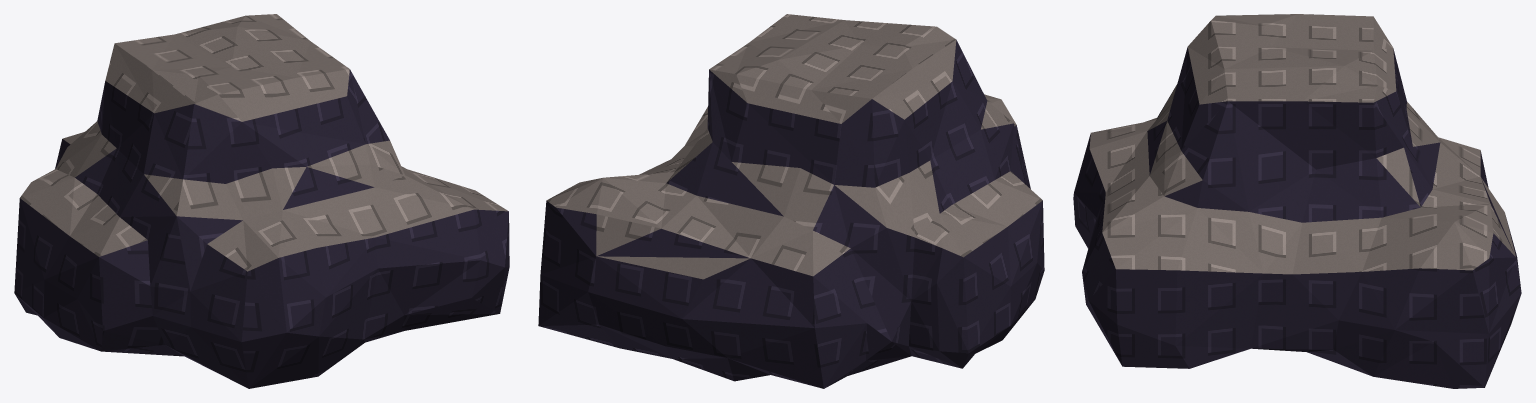
File: ObsidianStackSmall.glb
3 renders of one model, left to right at view 1: azimuth 30°, elevation 25°; view 2: azimuth 150°, elevation 25°; view 3: azimuth 270°, elevation 25°, orthographic. The views are drawn at different scales.
Parts seen in each view (by area): view 1: ObsidianStackSmall_Rock, ObsidianStackSmall_Top; view 2: ObsidianStackSmall_Rock, ObsidianStackSmall_Top; view 3: ObsidianStackSmall_Rock, ObsidianStackSmall_Top.
Boxes of the visible parts, box(x1,y1,x2,y2) form: ObsidianStackSmall_Rock: box(14, 69, 509, 388); ObsidianStackSmall_Top: box(20, 14, 508, 271); ObsidianStackSmall_Rock: box(538, 40, 1044, 388); ObsidianStackSmall_Top: box(546, 14, 1042, 279); ObsidianStackSmall_Rock: box(1073, 47, 1521, 388); ObsidianStackSmall_Top: box(1089, 14, 1515, 274).
Size of the model in its own units: 8.47 by 5.61 by 8.91.
2 materials, 2 textured.
